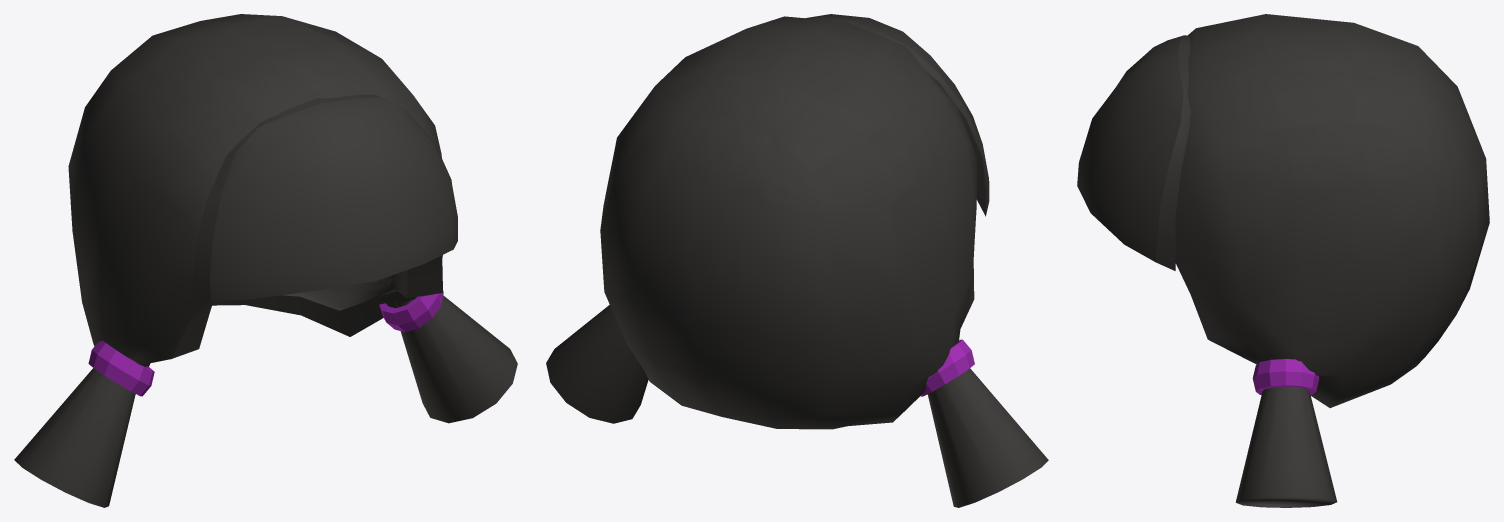
Rendered from doll_hair.fbx.
3 views of the same model, side by side, from view 1: azimuth 30°, elevation 25°; view 2: azimuth 150°, elevation 25°; view 3: azimuth 270°, elevation 25° (orthographic). The views are drawn at different scales.
Parts seen in each view (by area): view 1: doll_hair; view 2: doll_hair; view 3: doll_hair.
Part boxes in pixels (x1=…): doll_hair: x1=14, y1=14, x2=517, y2=507; doll_hair: x1=546, y1=14, x2=1048, y2=507; doll_hair: x1=1077, y1=14, x2=1489, y2=507.
Size of the model in its own units: 178 by 145 by 137.
